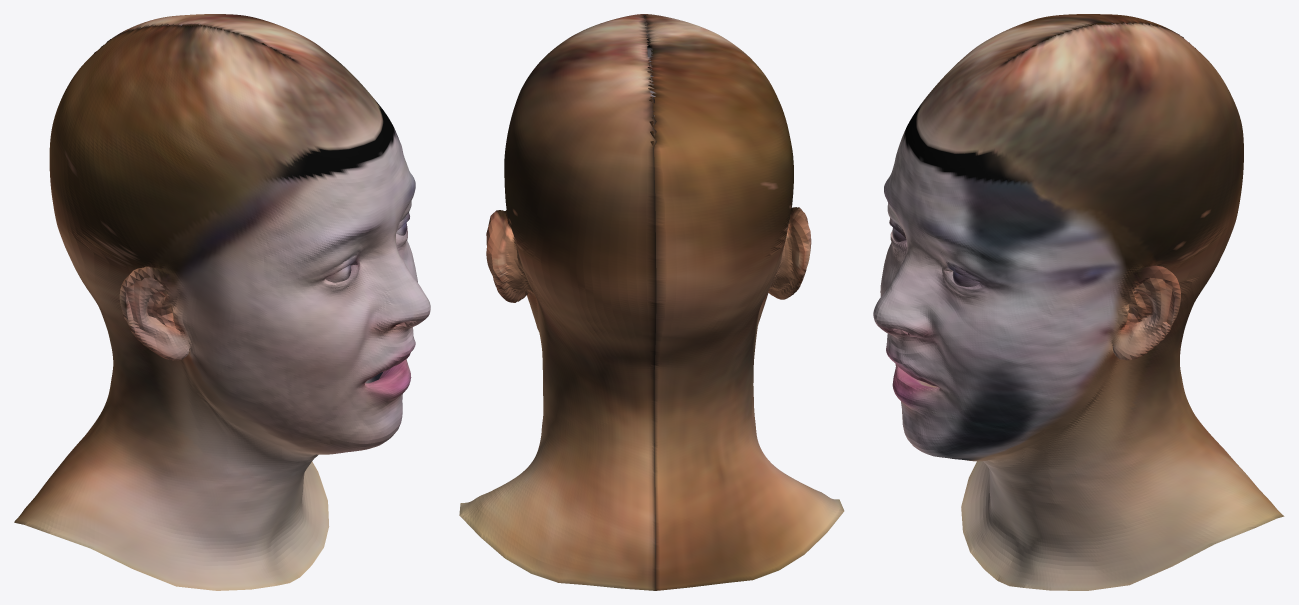
File: cheo1_frame0005_detail.obj
3 renders of one model, left to right at view 1: azimuth 30°, elevation 25°; view 2: azimuth 150°, elevation 25°; view 3: azimuth 270°, elevation 25°, orthographic.
Bounding box in the file's own units: 0.2139 × 0.3202 × 0.2245.
